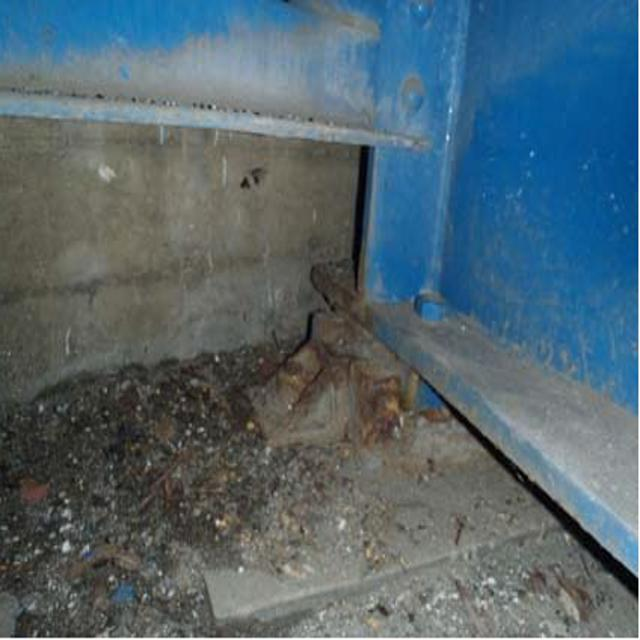corrosion: (245, 273, 416, 470)
